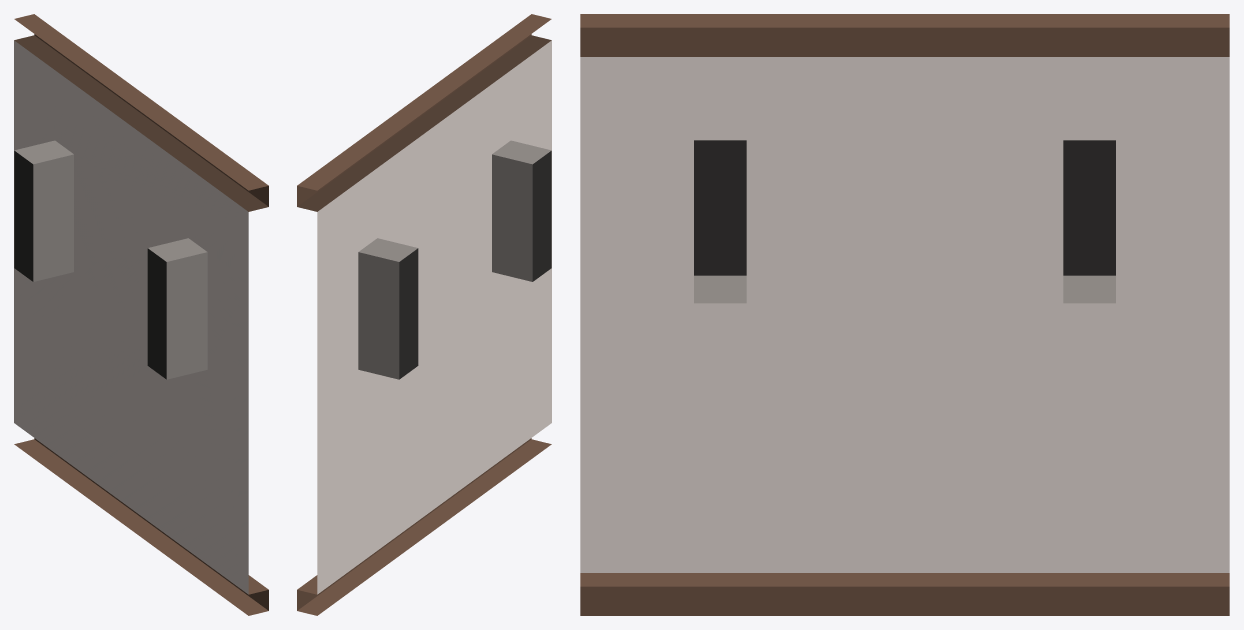
The model's file is basic_wall_011.fbx.
3 renders of one model, left to right at view 1: azimuth 30°, elevation 25°; view 2: azimuth 150°, elevation 25°; view 3: azimuth 270°, elevation 25°, orthographic. The views are drawn at different scales.
Parts seen in each view (by area): view 1: Base_Wall.011; view 2: Base_Wall.011; view 3: Base_Wall.011.
Part boxes in pixels (<box>): Base_Wall.011: <box>14,14,268,615</box>; Base_Wall.011: <box>297,14,551,615</box>; Base_Wall.011: <box>580,14,1229,615</box>.
Size of the model in its own units: 200 by 30.12 by 200.
